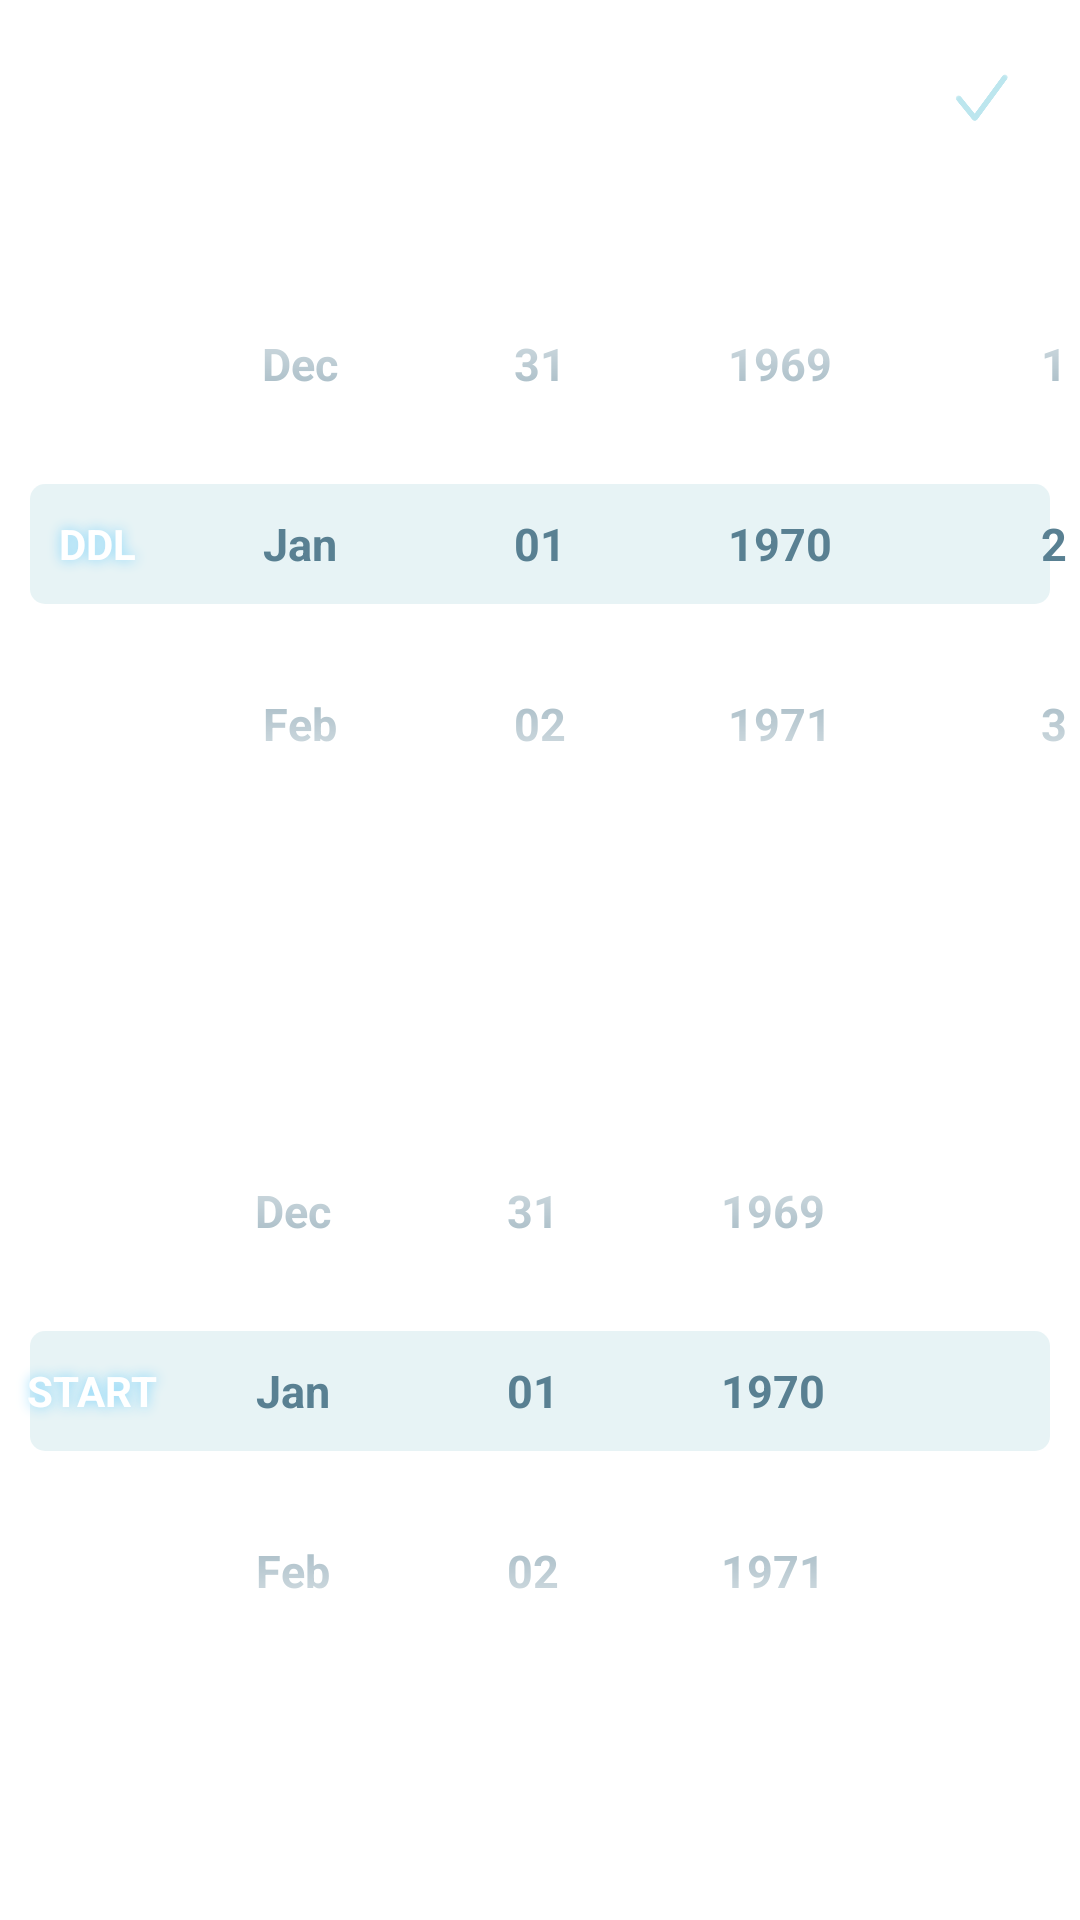

Icons on this 1080 x 1920 Android screen, each with the point to tap as point (x, y):
ok lb: point (982, 98)
